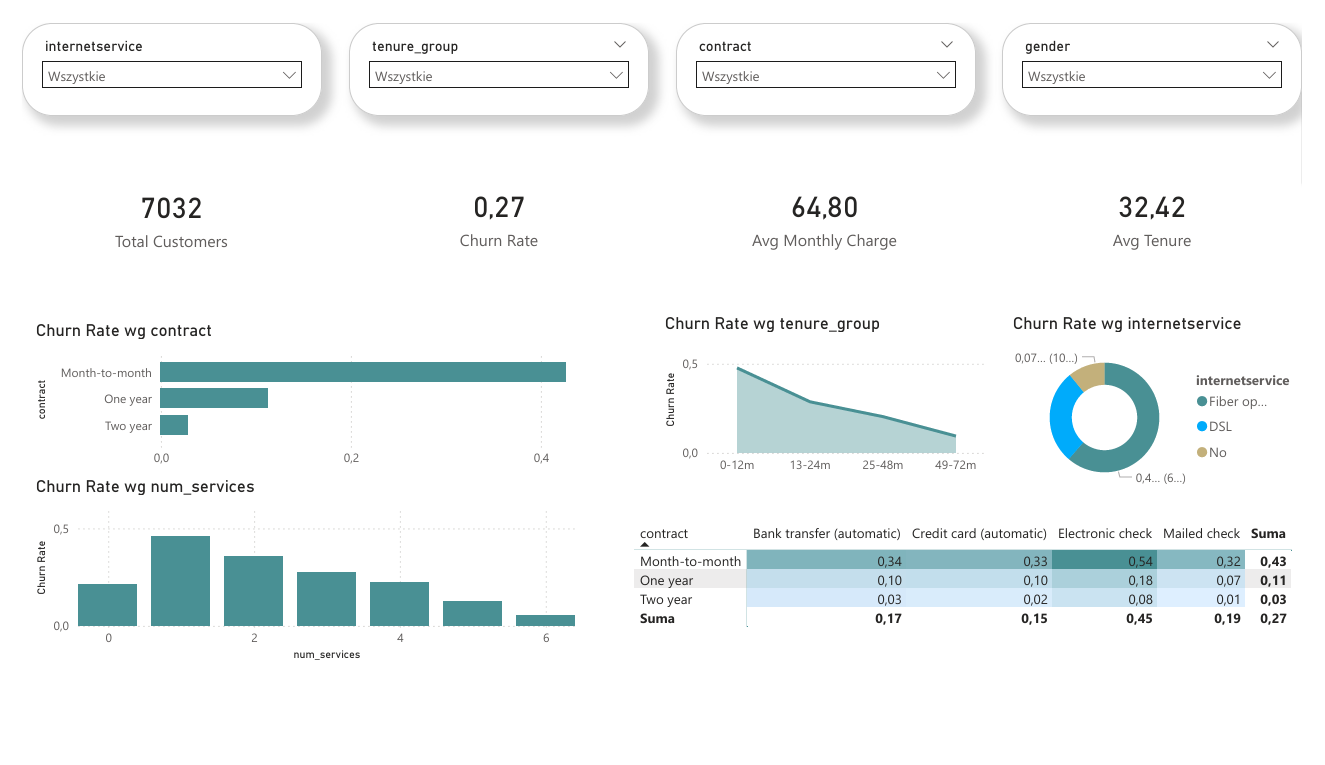

The dashboard page shown, as its layout file describes it:
{"tool":"powerbi","page":{"name":"dashboard","canvas":[1280,720],"ordinal":0},"visuals":[{"type":"card","fields":{"Values":["telco.Total Customers"]},"box":[8.7,125,281.5,137],"z":0},{"type":"card","fields":{"Values":["telco.Churn Rate"]},"box":[337,118.5,280.4,148.9],"z":1000},{"type":"card","fields":{"Values":["telco.Avg Monthly Charge"]},"box":[662,118.5,281.5,148.9],"z":2000},{"type":"card","fields":{"Values":["telco.Avg Tenure"]},"box":[990.2,118.5,279.3,148.9],"z":3000},{"type":"barChart","fields":{"Category":["telco.contract"],"Y":["telco.Churn Rate"]},"box":[8.7,296.7,618.5,156.5],"z":4000},{"type":"donutChart","fields":{"Category":["telco.internetservice"],"Y":["telco.Churn Rate"]},"box":[985.9,290.2,289.1,190.2],"z":5000},{"type":"areaChart","fields":{"Category":["telco.tenure_group"],"Y":["telco.Churn Rate"]},"box":[638,290.2,330.4,169.6],"z":6000},{"type":"columnChart","fields":{"Category":["telco.num_services"],"Y":["telco.Churn Rate"]},"box":[8.7,453.3,548.9,189.1],"z":7000},{"type":"pivotTable","fields":{"Rows":["telco.contract"],"Columns":["telco.paymentmethod"],"Values":["telco.Churn Rate"]},"box":[607.6,494.6,672.8,117.4],"z":8000},{"type":"slicer","fields":{"Values":["telco.gender"]},"box":[980,0,300,93.5],"z":9000},{"type":"slicer","fields":{"Values":["telco.contract"]},"box":[653.6,0,300,93.5],"z":10000},{"type":"slicer","fields":{"Values":["telco.tenure_group"]},"box":[326.8,0,300,93.5],"z":11000},{"type":"slicer","fields":{"Values":["telco.internetservice"]},"box":[0,0,300,93.5],"z":12000}]}

Visuals, with their boxes in screenshot pixels (x1, y1, x2, y2), scaled from the page's 1280x720 canvas onto the 1325x765 screenshot:
card - telco.Total Customers: pyautogui.locateOnScreen(9, 133, 300, 278)
card - telco.Churn Rate: pyautogui.locateOnScreen(349, 126, 639, 284)
card - telco.Avg Monthly Charge: pyautogui.locateOnScreen(685, 126, 977, 284)
card - telco.Avg Tenure: pyautogui.locateOnScreen(1025, 126, 1314, 284)
barChart - telco.contract x telco.Churn Rate: pyautogui.locateOnScreen(9, 315, 649, 482)
donutChart - telco.internetservice x telco.Churn Rate: pyautogui.locateOnScreen(1021, 308, 1320, 510)
areaChart - telco.tenure_group x telco.Churn Rate: pyautogui.locateOnScreen(660, 308, 1002, 489)
columnChart - telco.num_services x telco.Churn Rate: pyautogui.locateOnScreen(9, 482, 577, 683)
pivotTable - telco.contract x telco.paymentmethod: pyautogui.locateOnScreen(629, 526, 1324, 650)
slicer - telco.gender: pyautogui.locateOnScreen(1014, 0, 1324, 99)
slicer - telco.contract: pyautogui.locateOnScreen(677, 0, 987, 99)
slicer - telco.tenure_group: pyautogui.locateOnScreen(338, 0, 649, 99)
slicer - telco.internetservice: pyautogui.locateOnScreen(0, 0, 311, 99)
